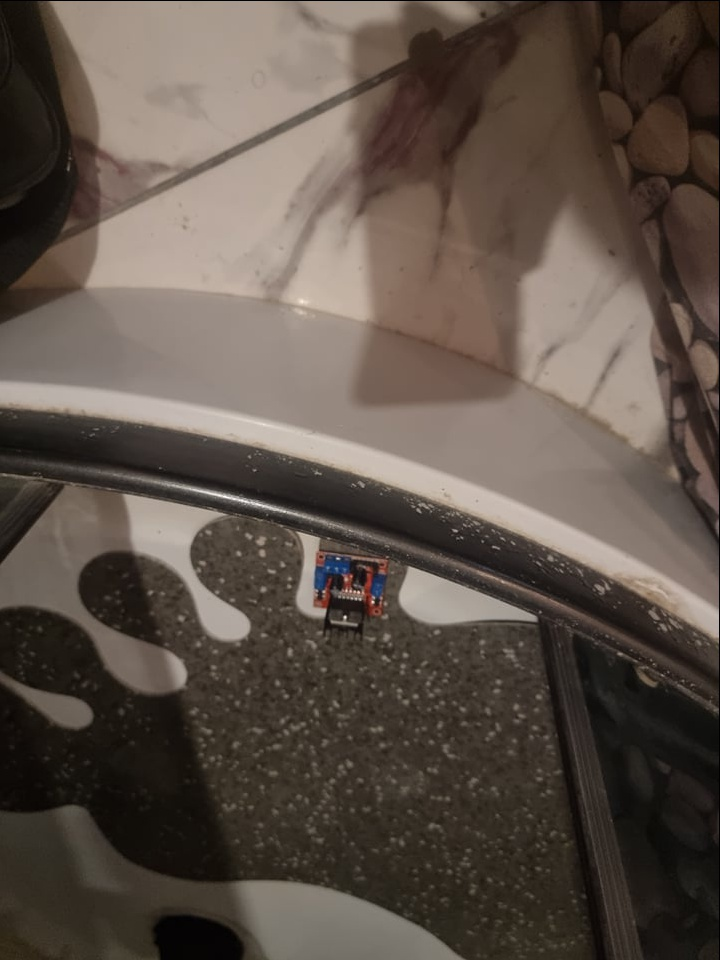MOTOR: (313, 549, 391, 641)
